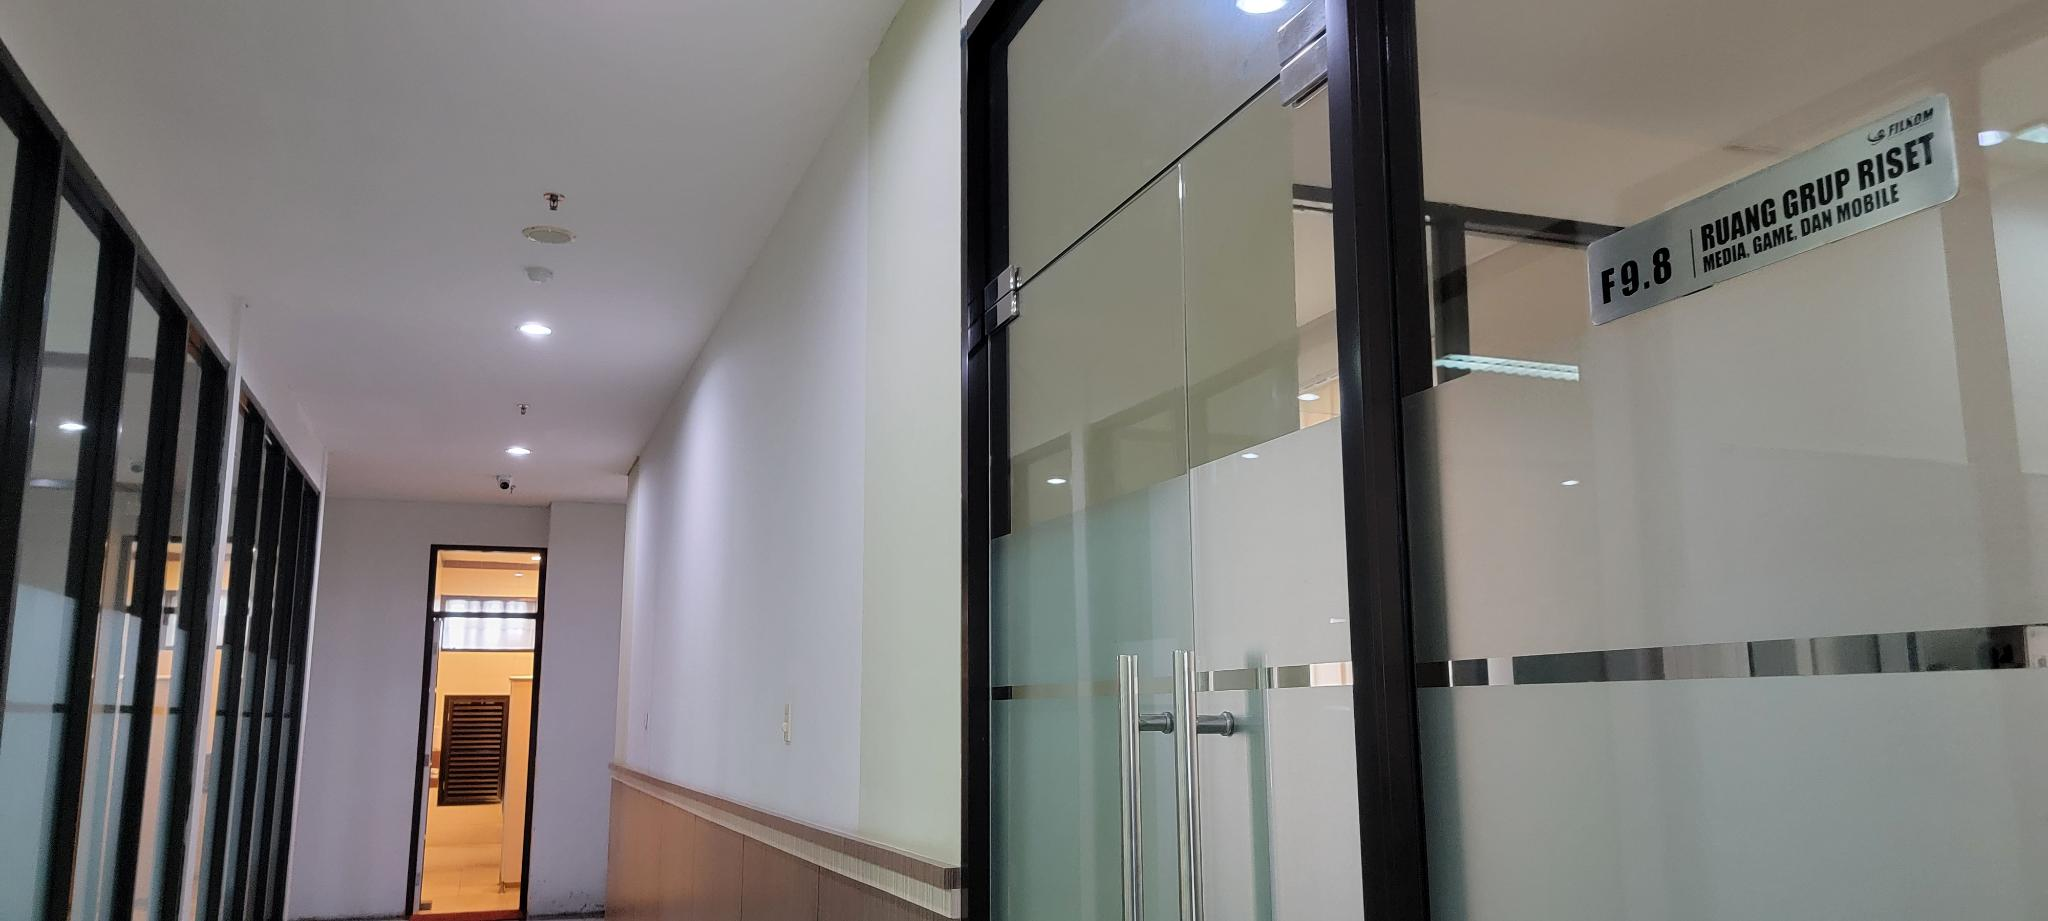plate: (1583, 93, 1966, 325)
